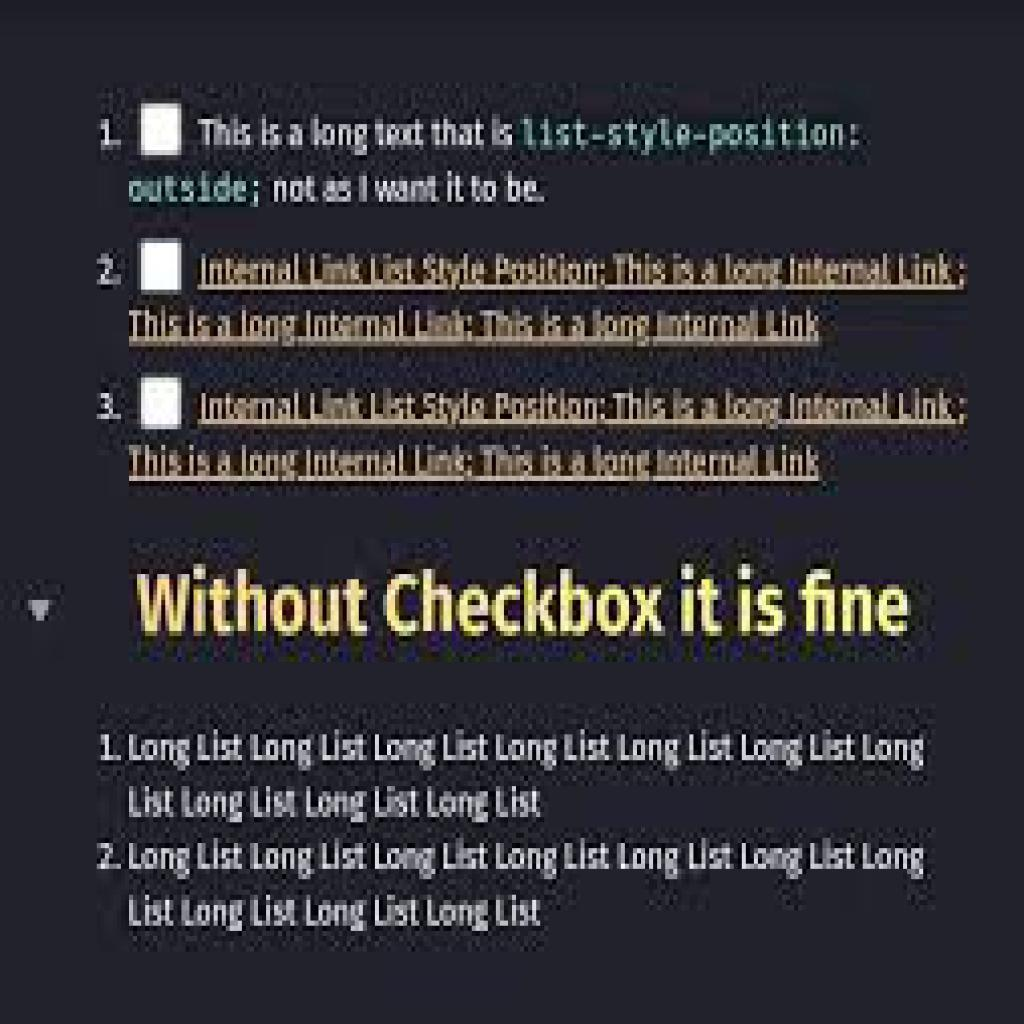checkbox: (140, 103, 187, 155), (140, 381, 185, 433), (140, 240, 183, 293)
